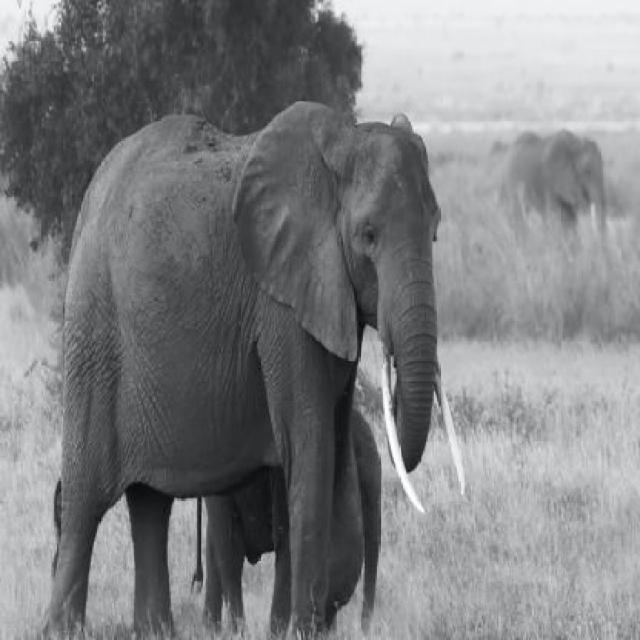Elephant: (45, 94, 472, 638), (498, 118, 617, 253)
